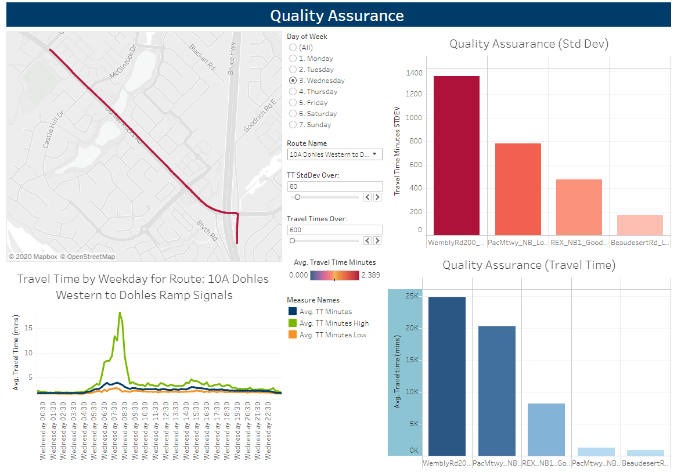

What the dashboard file says about the page in this screenshot:
{"tool":"tableau","page":{"name":"QA Dashboard","canvas":[1169,827],"ordinal":0},"visuals":[{"type":"text","box":[8,8,1153,50]},{"type":"worksheet","title":"Map","mark":"Line","rows":["vertexlatitude"],"cols":["vertexlongitude"],"box":[8,58,483,405]},{"type":"filter","title":"Travel Time","param":"[sqlproxy.0jzfbra1rb71cs177uuhh050du17].[Pk2Of2 Utcplus10 Dayofweek Hour Minute1","box":[491,58,174,184]},{"type":"worksheet","title":"QA Std Dev","mark":"Automatic","rows":["Calculation_566609162751639552"],"cols":["pk1of2_routeid","route_name"],"box":[665,58,496,380.5]},{"type":"parameter","param":"[Parameters].[Parameter 2]","box":[491,242,174,52]},{"type":"parameter","param":"[Parameters].[Parameter 4]","box":[491,294,174,75]},{"type":"parameter","param":"[Parameters].[Parameter 3]","box":[491,369,174,75]},{"type":"worksheet","title":"Travel Time QA","mark":"Automatic","rows":["traveltime_minutes"],"cols":["pk1of2_routeid","route_name"],"box":[665,438.5,496,380.5]},{"type":"legend","title":"Map","param":"[sqlproxy.0icfpck14g6erq1fguouy05v4uhw].[avg:traveltime_minutes:qk]","box":[491,444,174,65]},{"type":"worksheet","title":"Travel Time","mark":"Line","cols":["pk2of2_utcplus10_dayofweek_hour_minute15minbin"],"box":[8,463,483,356]},{"type":"legend","title":"Travel Time","param":"[sqlproxy.0jzfbra1rb71cs177uuhh050du17].[:Measure Names]","box":[491,509,174,86]}]}

Visuals, with their boxes in screenshot pixels (x1, y1, x2, y2), scaled from the page's 1169x827 canvas onto the 681x472 screenshot:
text: (left=5, top=5, right=676, bottom=33)
"Map" worksheet (Line marks): (left=5, top=33, right=286, bottom=264)
"Travel Time" filter: (left=286, top=33, right=387, bottom=138)
"QA Std Dev" worksheet: (left=387, top=33, right=676, bottom=250)
parameter: (left=286, top=138, right=387, bottom=168)
parameter: (left=286, top=168, right=387, bottom=211)
parameter: (left=286, top=211, right=387, bottom=253)
"Travel Time QA" worksheet: (left=387, top=250, right=676, bottom=467)
"Map" legend: (left=286, top=253, right=387, bottom=291)
"Travel Time" worksheet (Line marks): (left=5, top=264, right=286, bottom=467)
"Travel Time" legend: (left=286, top=291, right=387, bottom=340)
